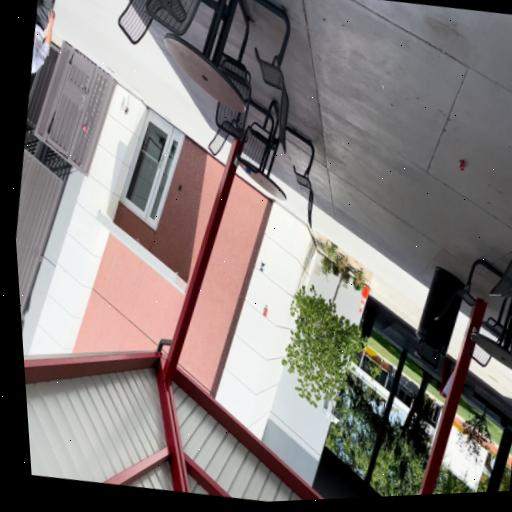target9: (258, 261, 265, 272)
